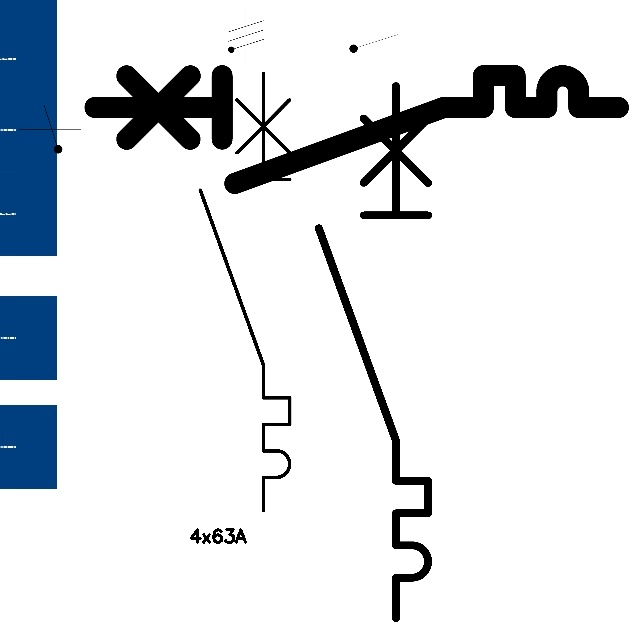interruptor_termomagnetico: (305, 72, 442, 631), (81, 62, 631, 196), (189, 62, 301, 522)
